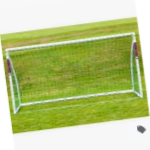goals: (5, 32, 144, 113)
